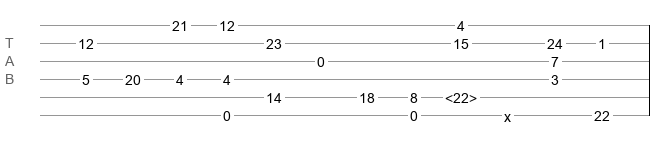0: (223, 108, 231, 118), (317, 54, 325, 64), (410, 108, 418, 118)
1: (598, 36, 606, 46)
12: (78, 36, 94, 46), (219, 18, 235, 28)
14: (266, 90, 282, 100)
15: (453, 36, 469, 46)
18: (359, 90, 375, 100)
20: (125, 72, 141, 82)
21: (172, 18, 188, 28)
22: (594, 108, 610, 118)
23: (266, 36, 282, 46)
24: (547, 36, 563, 46)
3: (551, 72, 559, 82)
4: (176, 72, 184, 82), (223, 72, 231, 82), (457, 18, 465, 28)
5: (82, 72, 90, 82)
7: (551, 54, 559, 64)
8: (410, 90, 418, 100)
harmonic: (445, 90, 477, 100)
x: (504, 109, 511, 117)
